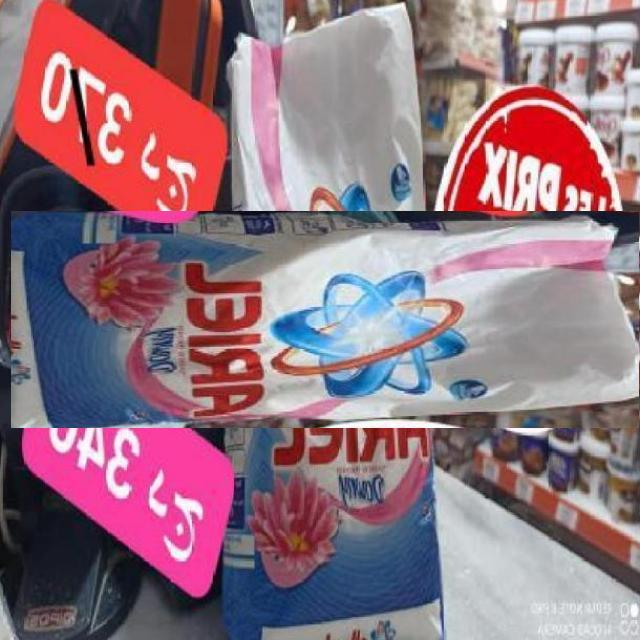Detergent: (10, 212, 640, 428)
